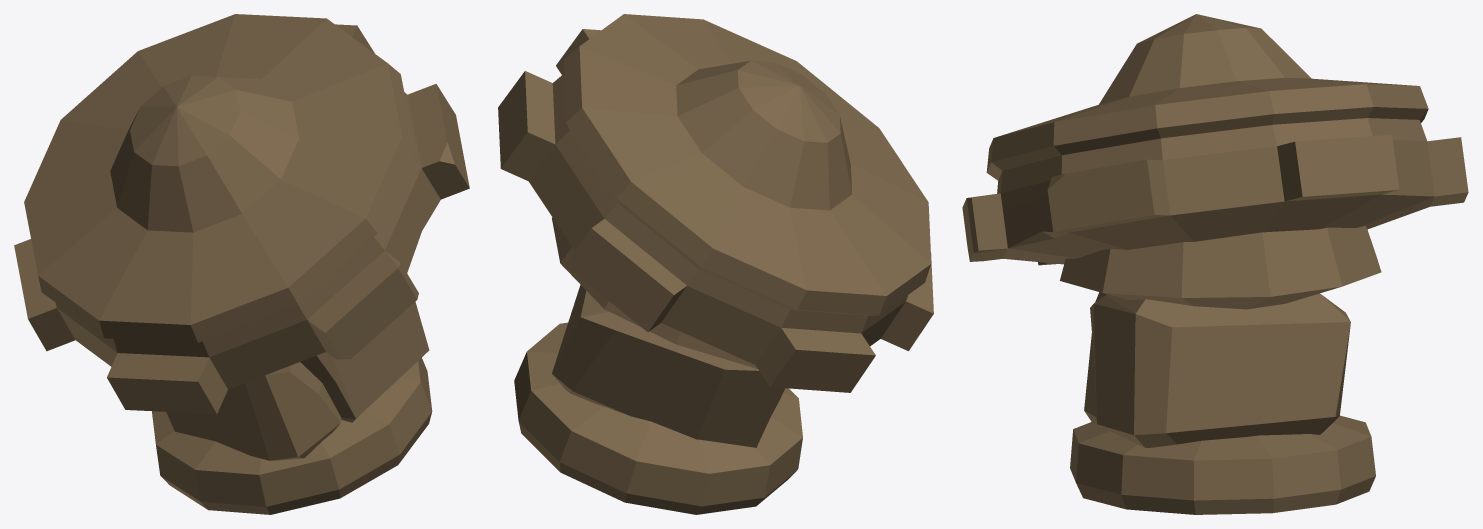
The model's file is leg_l_upper.gltf.
3 views of the same model, side by side, from view 1: azimuth 30°, elevation 25°; view 2: azimuth 150°, elevation 25°; view 3: azimuth 270°, elevation 25° (orthographic). The views are drawn at different scales.
Visible parts, largest first — view 1: leg_l_upper; view 2: leg_l_upper; view 3: leg_l_upper.
Boxes of the visible parts, <box> form: leg_l_upper: <box>14,14,469,514</box>; leg_l_upper: <box>498,14,933,514</box>; leg_l_upper: <box>962,14,1468,514</box>.
Size of the model in its own units: 2.65 by 2.85 by 2.86.
1 material, 1 textured.
